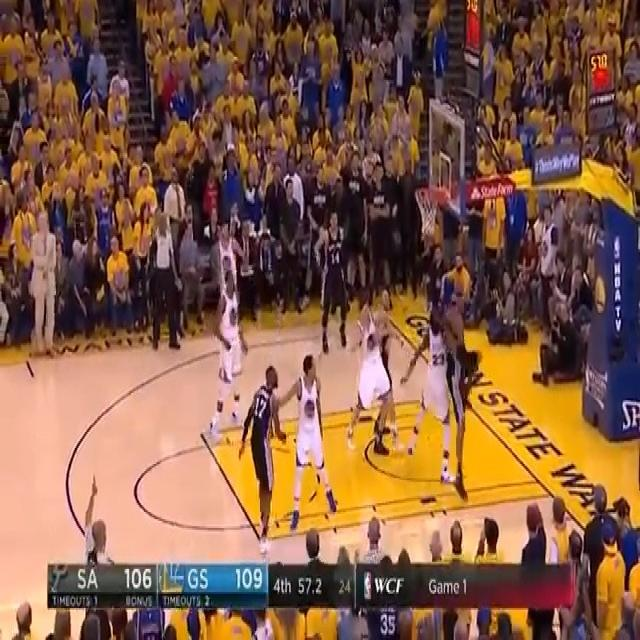hoop: (408, 178, 449, 248)
